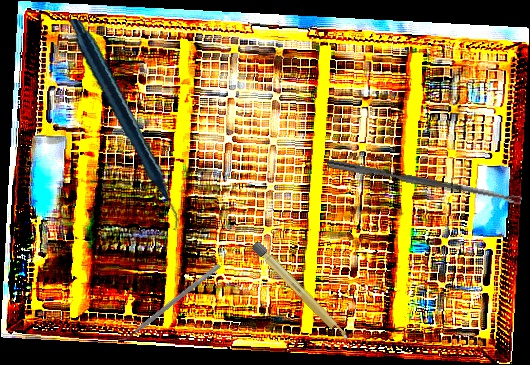Handpiece: (38, 18, 208, 231)
Scalpel Handle: (249, 239, 353, 346)
Spatula Surgical: (116, 258, 222, 347)
Surgical Spoon: (325, 159, 523, 206)
